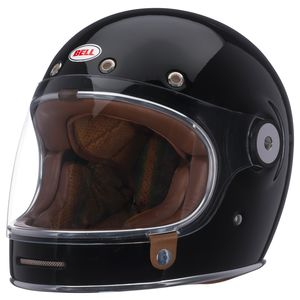with_helmet: (7, 8, 292, 291)
